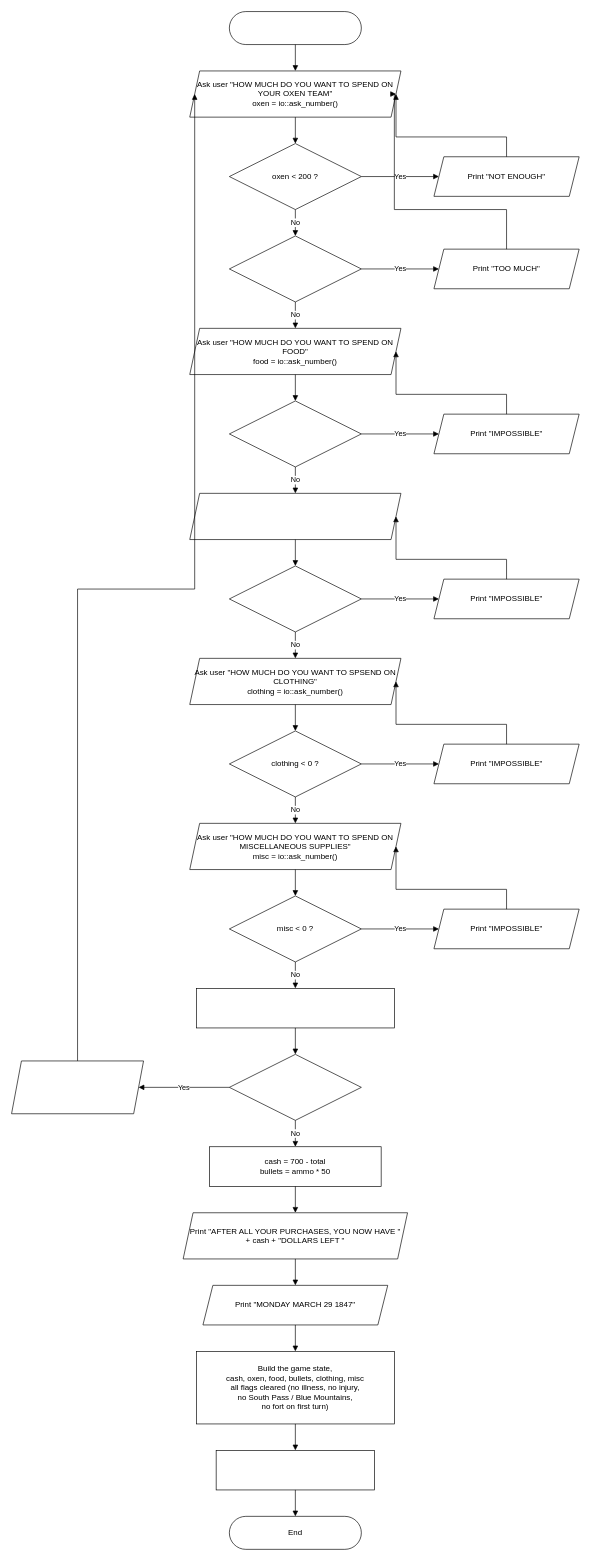
Image size: 591x1561. Some labels were removed from this diagram. The centre of each missing label's shape, as x and y in pixels:
ammo < 0 ?: the point at 295,598
Ask user "HOW MUCH DO YOU WANT TO SPEND ON AMMUNITION" ammo = io::ask_number(): the point at 295,516
food < 0 ?: the point at 295,433
oxen > 300 ?: the point at 295,268
Print "YOU OVERSPENT--YOU ONLY HAD $700 TO SPEND. BUY AGAIN": the point at 77,1087
Return the game state: the point at 295,1470
Start: the point at 295,28
total = oxen + food + ammo + clothing + misc: the point at 295,1008
total > 700 ?: the point at 295,1087
